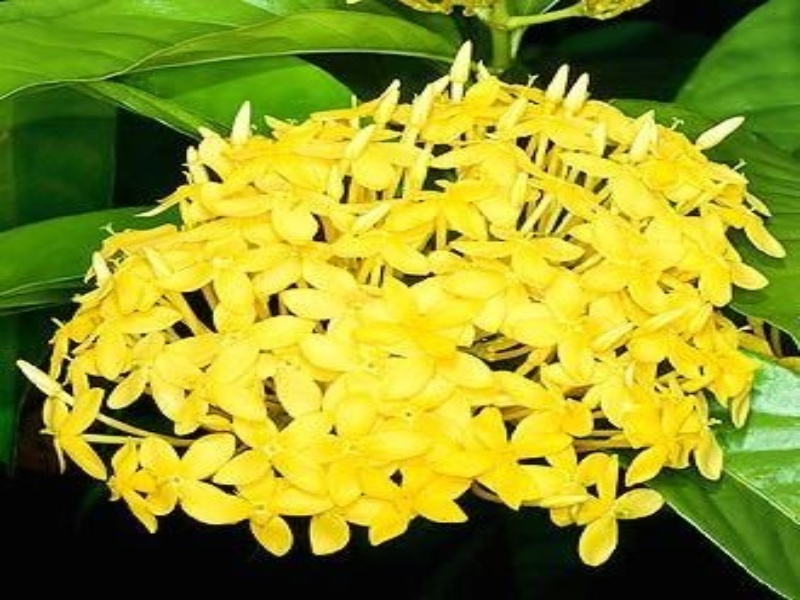Ixora: (22, 33, 791, 572)
